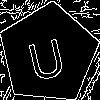U: (23, 29, 68, 82)
